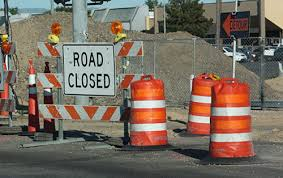barrel: (211, 83, 248, 158), (131, 79, 164, 147), (185, 77, 219, 132)
